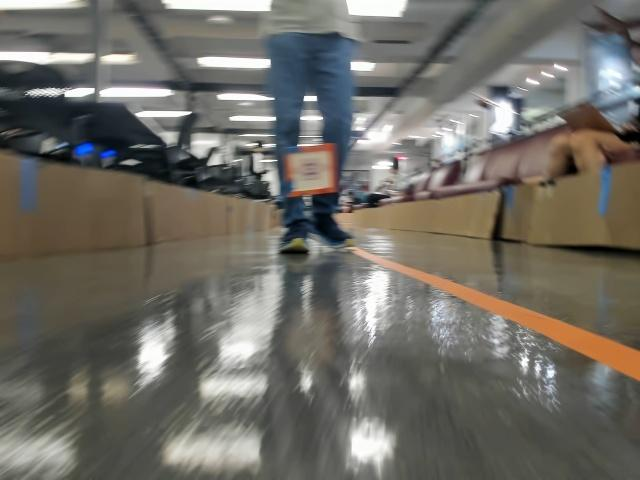Do Not Go Around: (291, 158, 329, 180)
